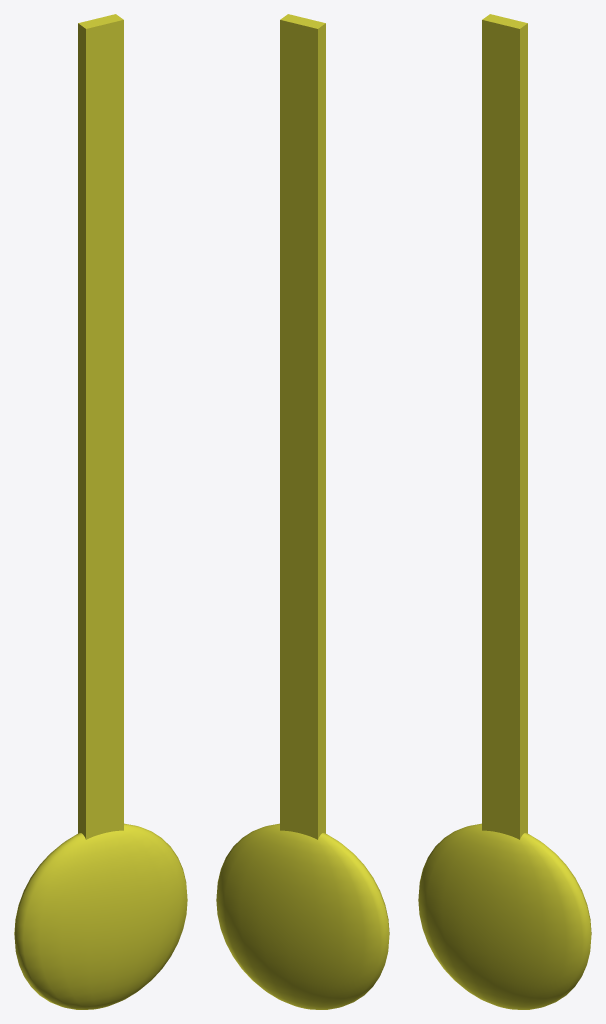
Rendered from clock-pendulum.obj.
3 views of the same model, side by side, from view 1: azimuth 30°, elevation 25°; view 2: azimuth 150°, elevation 25°; view 3: azimuth 330°, elevation 25° (orthographic).
Parts seen in each view (by area): view 1: pCube1, pSphere1; view 2: pCube1, pSphere1; view 3: pCube1, pSphere1.
Part boxes in pixels (left/top/right/bottom): pCube1: left=78, top=14, right=123, bottom=839; pSphere1: left=14, top=823, right=187, bottom=1009; pCube1: left=280, top=14, right=325, bottom=839; pSphere1: left=216, top=823, right=389, bottom=1009; pCube1: left=482, top=14, right=527, bottom=839; pSphere1: left=418, top=823, right=591, bottom=1009.
Bounding box in the file's own units: 2 × 10.91 × 0.5883.
